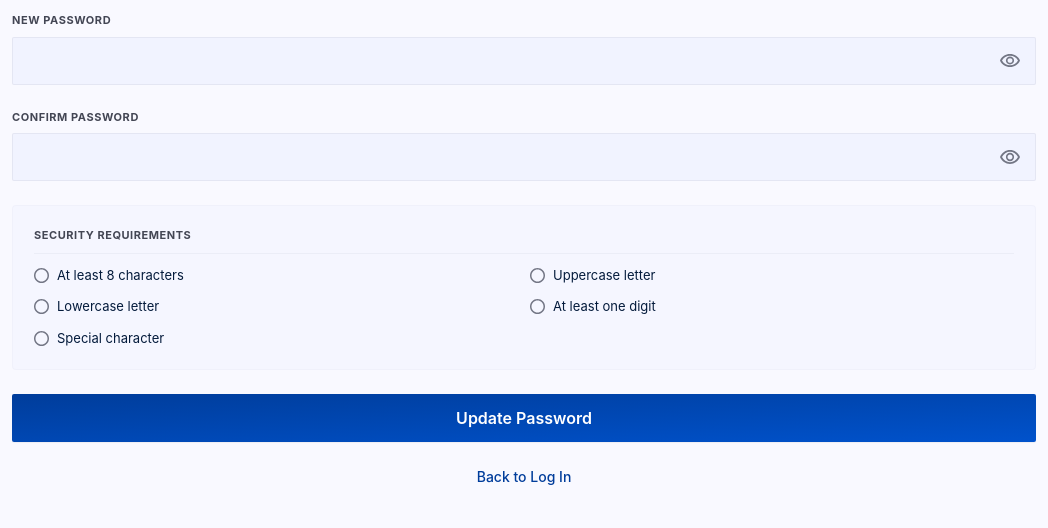
Scenario: ResetPasswordForm › revalidates confirmation when the new password changes
Type "SecurePass123!" into the password field labelled "New Password".
click(524, 60); type("SecurePass123!")  # box x1=12 y1=36 x2=1036 y2=84
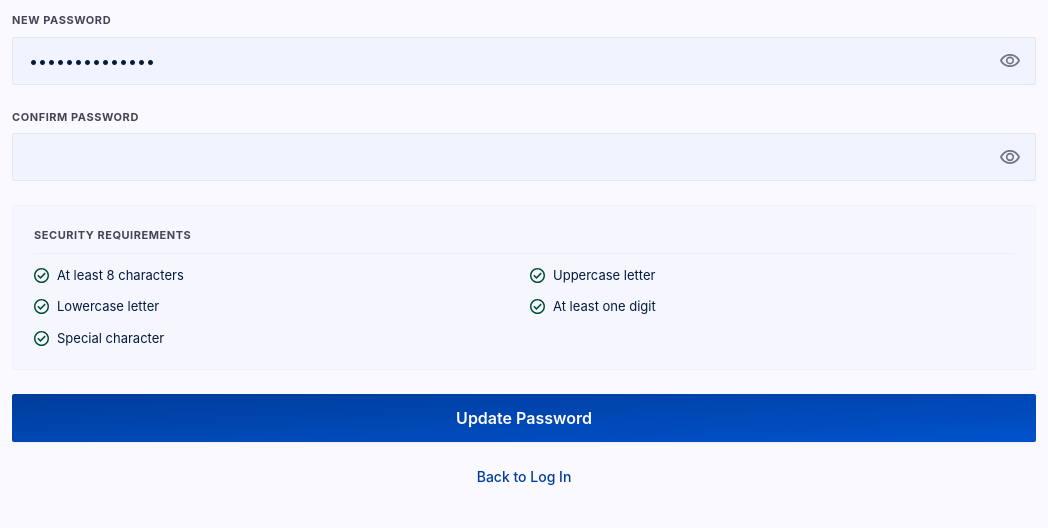
Type "SecurePass123!" into the password field labelled "Confirm Password".
click(524, 157); type("SecurePass123!")  # box x1=12 y1=133 x2=1036 y2=181
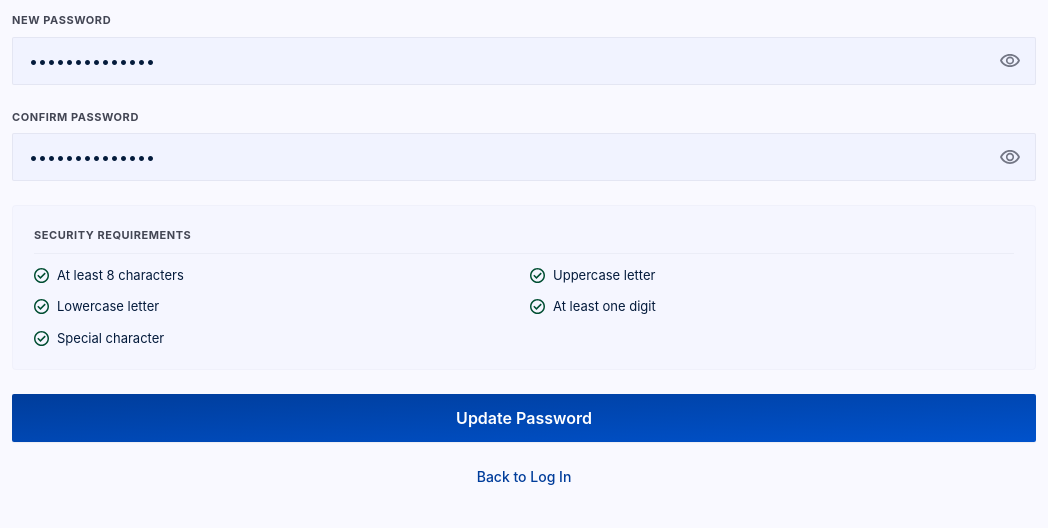
Type "AnotherPass123!" into the password field labelled "New Password".
click(524, 60); type("AnotherPass123!")  # box x1=12 y1=36 x2=1036 y2=84
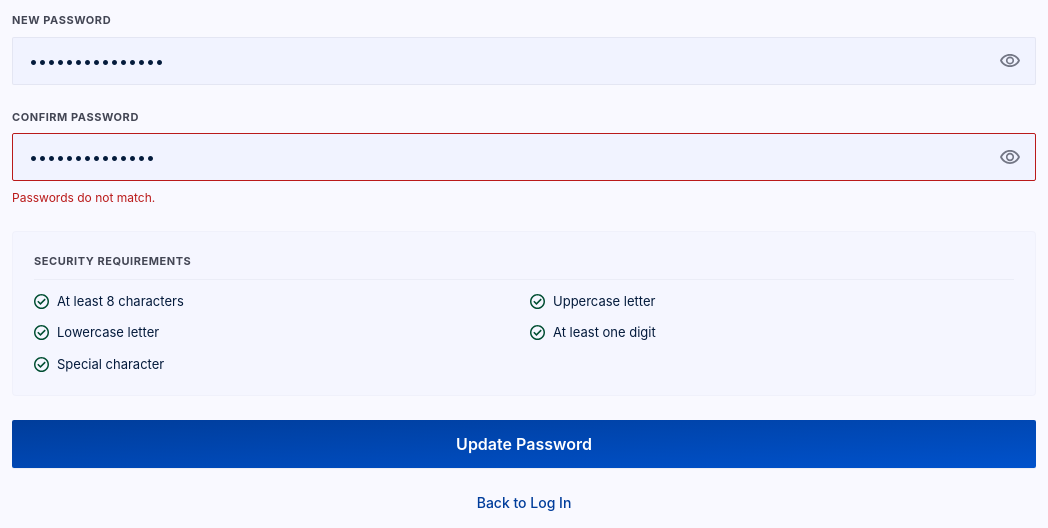
Expected: the text "Passwords do not match." is shown, x1=12 y1=190 x2=155 y2=205
